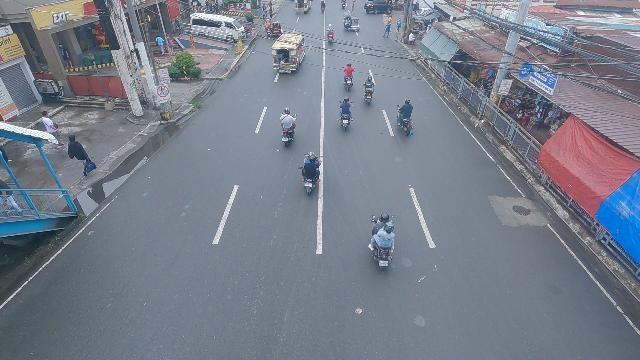jeepney: (270, 33, 306, 73), (294, 0, 311, 14)
motorcycle: (367, 211, 395, 269), (296, 151, 323, 194), (277, 109, 296, 148), (397, 99, 414, 140), (337, 99, 353, 131), (361, 77, 376, 108), (342, 64, 356, 93), (326, 25, 336, 44), (319, 2, 327, 13)
van: (189, 12, 248, 43)
